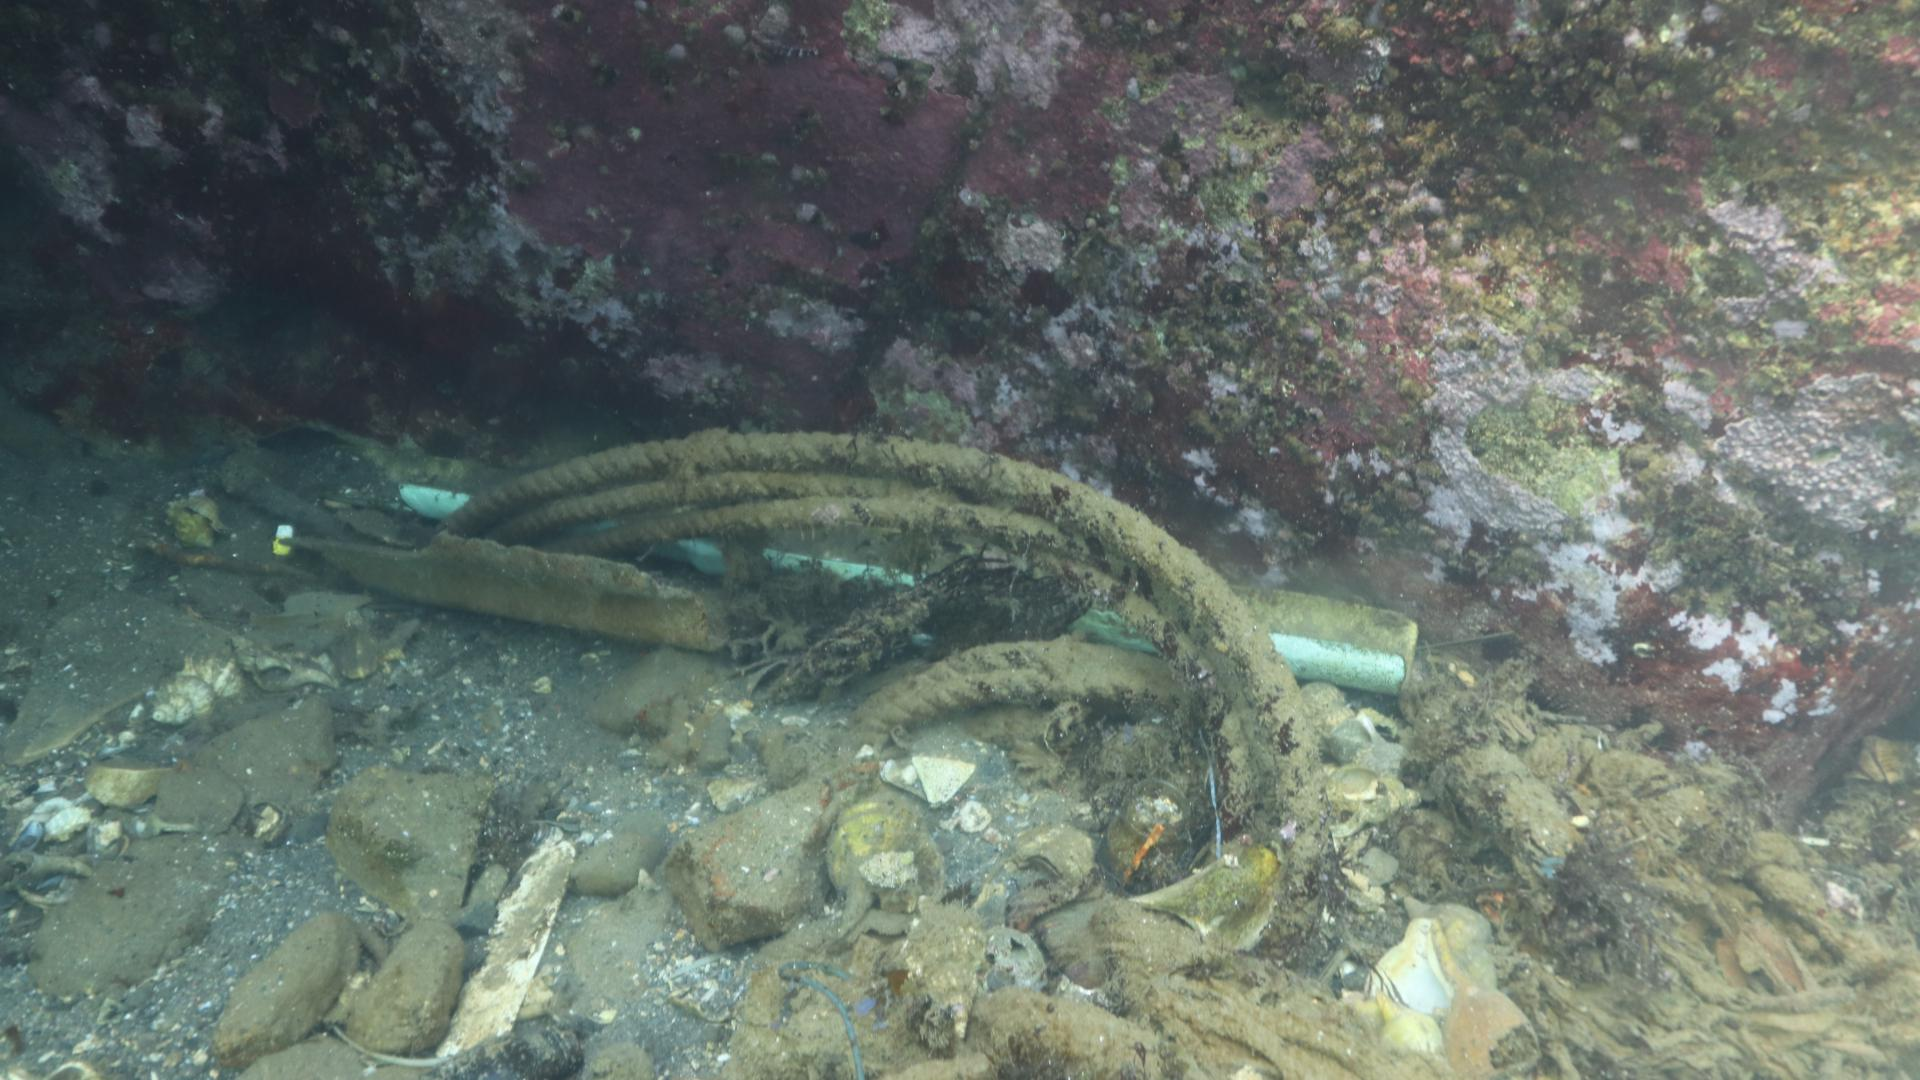bundle of ropes: (436, 426, 1327, 893)
